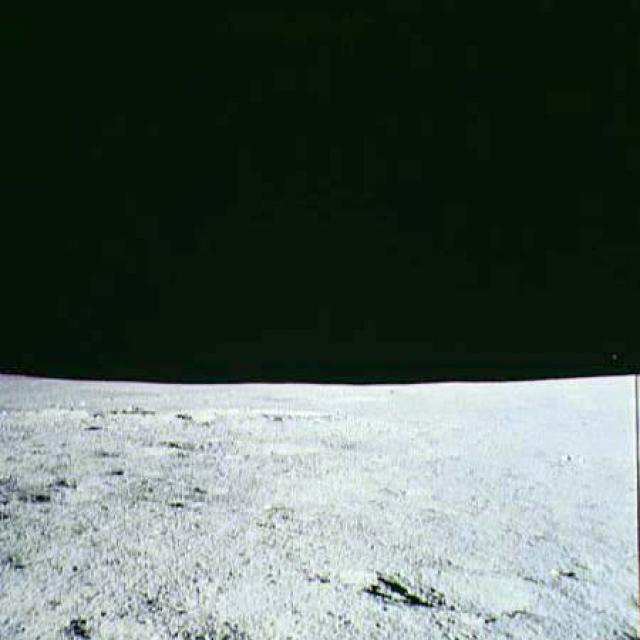crater: (356, 550, 542, 626), (0, 478, 143, 522), (235, 429, 388, 460)
